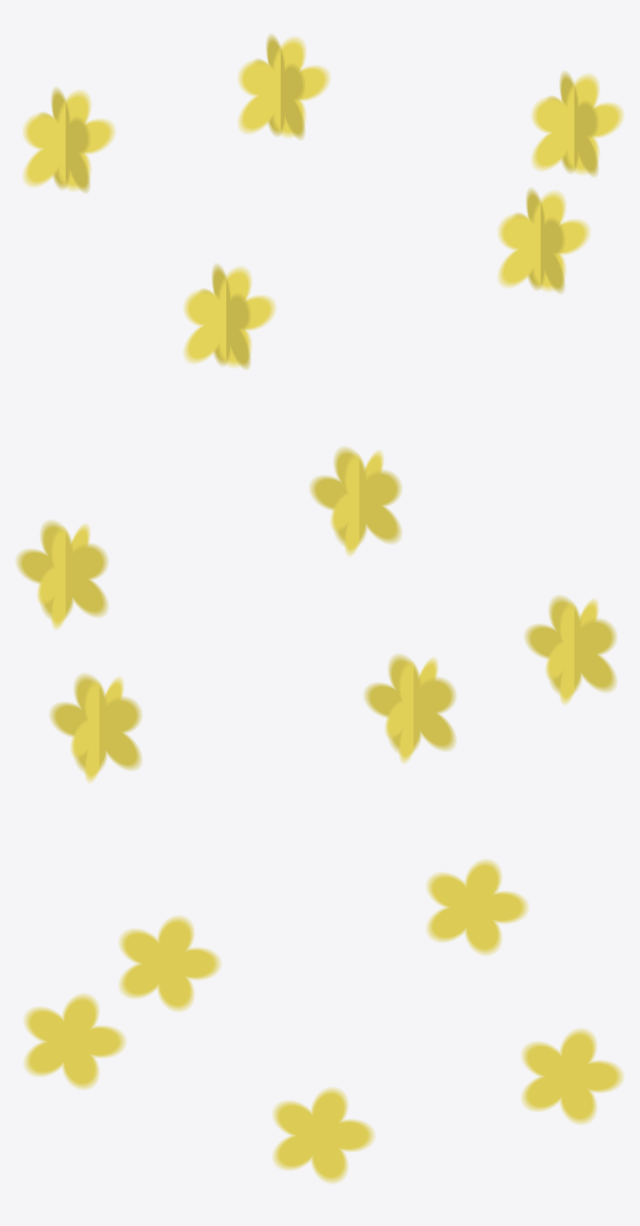
The model's file is fx-stunned.glb.
The picture shows the model from 3 angles, top to bottom: view 1: azimuth 30°, elevation 25°; view 2: azimuth 150°, elevation 25°; view 3: azimuth 270°, elevation 25°; orthographic projection. The views are drawn at different scales.
Visible parts, largest first — view 1: Stunned_star2, Stunned_star0, Stunned_star1, Stunned_star3, Stunned_star4; view 2: Stunned_star0, Stunned_star2, Stunned_star4, Stunned_star3, Stunned_star1; view 3: Stunned_star2, Stunned_star1, Stunned_star3, Stunned_star0, Stunned_star4.
Part boxes in pixels (x1=…): Stunned_star2: x1=23, y1=87, x2=115, y2=193; Stunned_star0: x1=531, y1=71, x2=623, y2=176; Stunned_star1: x1=238, y1=34, x2=330, y2=139; Stunned_star3: x1=183, y1=263, x2=275, y2=369; Stunned_star4: x1=498, y1=188, x2=590, y2=293; Stunned_star0: x1=16, y1=520, x2=108, y2=629; Stunned_star2: x1=364, y1=654, x2=456, y2=763; Stunned_star4: x1=309, y1=447, x2=401, y2=556; Stunned_star3: x1=524, y1=595, x2=616, y2=704; Stunned_star1: x1=49, y1=673, x2=141, y2=782; Stunned_star2: x1=426, y1=859, x2=528, y2=955; Stunned_star1: x1=521, y1=1028, x2=623, y2=1124; Stunned_star3: x1=119, y1=915, x2=221, y2=1011; Stunned_star0: x1=272, y1=1087, x2=374, y2=1183; Stunned_star4: x1=24, y1=993, x2=126, y2=1089.
Size of the model in its own units: 0.3594 by 0.108 by 0.3743.
Materials: 1 (1 with a texture image).
